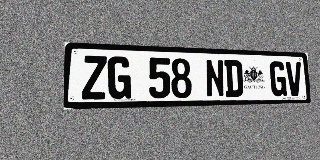5: (149, 57, 171, 98)
8: (171, 58, 192, 98)
D: (224, 60, 243, 97)
G: (108, 56, 131, 99), (269, 61, 287, 96)
N: (205, 59, 225, 97)
V: (286, 62, 303, 96)
Z: (82, 55, 107, 100)
